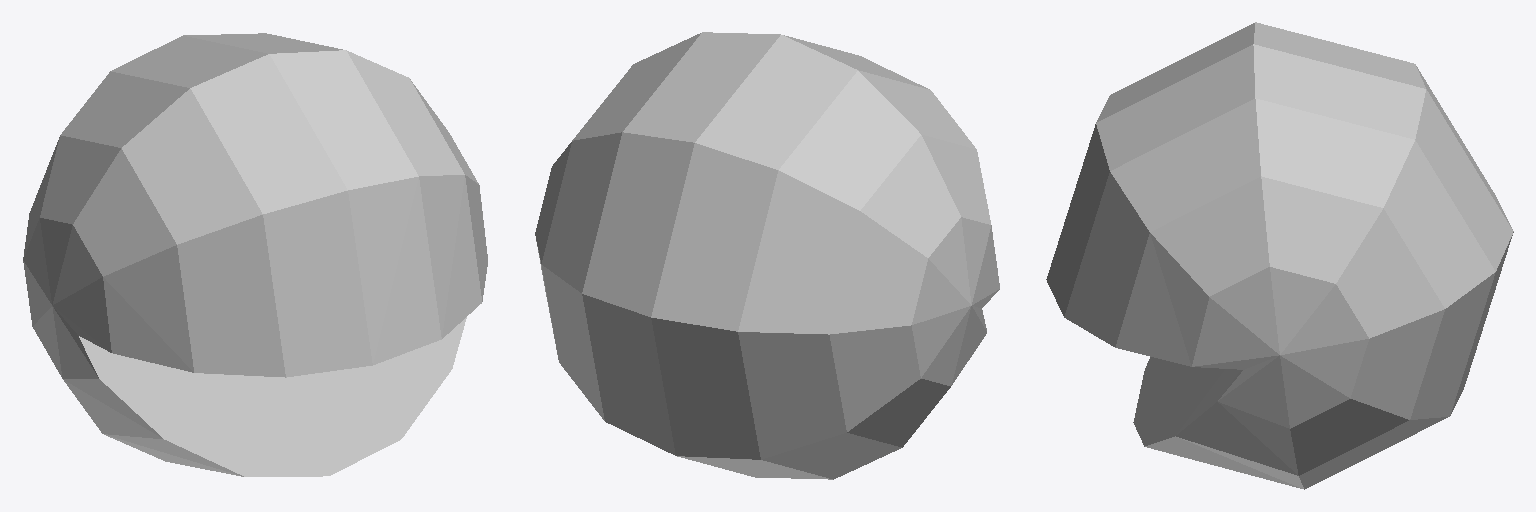
The model's file is PacmanLow.obj.
The picture shows the model from 3 angles: view 1: azimuth 30°, elevation 25°; view 2: azimuth 150°, elevation 25°; view 3: azimuth 270°, elevation 25°; orthographic projection.
Parts seen in each view (by area): view 1: polygon12, polygon0; view 2: polygon12; view 3: polygon12, polygon0.
Boxes of the visible parts, x1,y1,x2,y2 form: polygon12: [23, 33, 487, 476]; polygon0: [177, 175, 481, 377]; polygon12: [535, 32, 999, 479]; polygon12: [1096, 22, 1513, 489]; polygon0: [1046, 124, 1149, 346].
Size of the model in its own units: 0.7935 by 0.7886 by 0.7886.